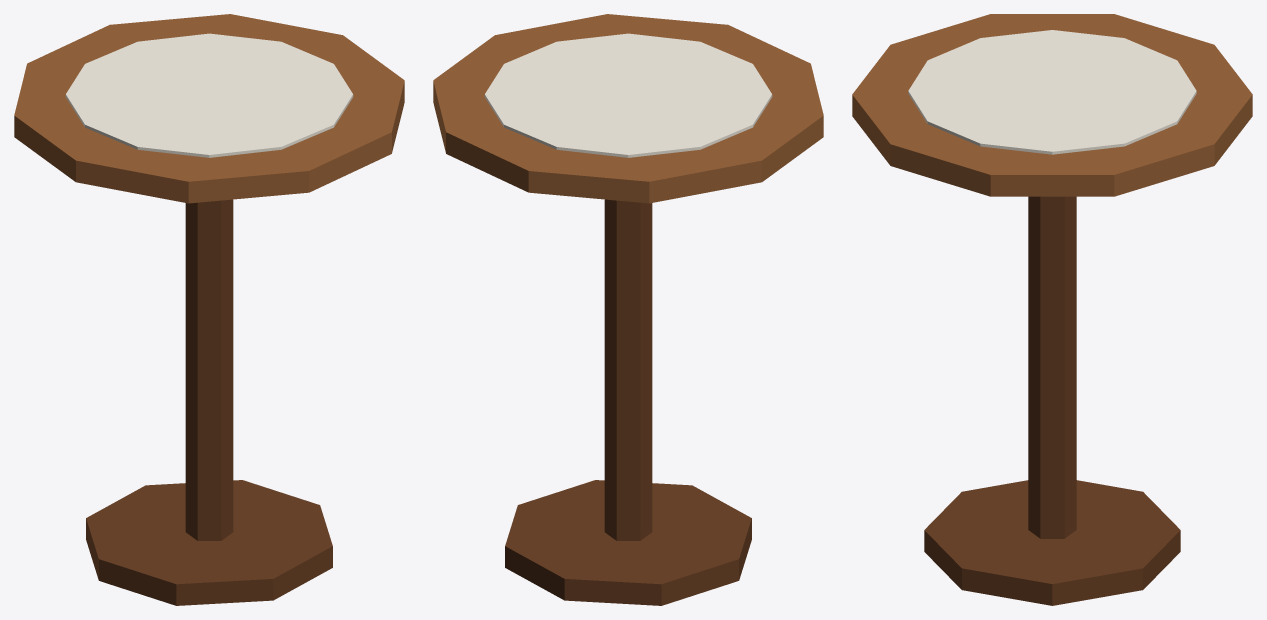
Rendered from sideTable.fbx.
3 renders of one model, left to right at view 1: azimuth 30°, elevation 25°; view 2: azimuth 150°, elevation 25°; view 3: azimuth 270°, elevation 25°, orthographic.
Visible parts, largest first — view 1: sideTable; view 2: sideTable; view 3: sideTable.
Part boxes in pixels (x1,y1,x2,y2): sideTable: (14,14,404,605); sideTable: (433,14,823,605); sideTable: (852,14,1252,605).
Size of the model in its own units: 1.9 by 2.54 by 2.
